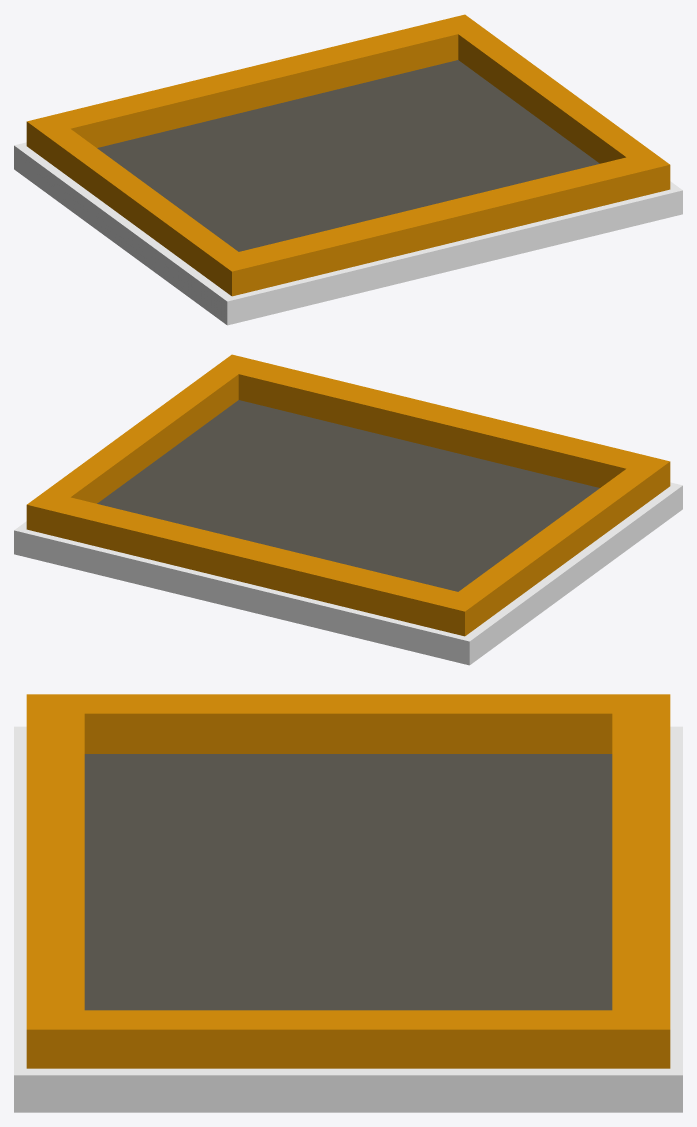
Rendered from CityBuildingB_01_roof.fbx.
3 renders of one model, top to bottom at view 1: azimuth 30°, elevation 25°; view 2: azimuth 150°, elevation 25°; view 3: azimuth 270°, elevation 25°, orthographic. The views are drawn at different scales.
Parts seen in each view (by area): view 1: CityBuildingB_01_roof; view 2: CityBuildingB_01_roof; view 3: CityBuildingB_01_roof.
Part boxes in pixels (<box>): CityBuildingB_01_roof: <box>14,14,682,325</box>; CityBuildingB_01_roof: <box>14,354,682,665</box>; CityBuildingB_01_roof: <box>14,694,682,1112</box>.
Bounding box in the file's own units: 0.6971 × 0.0713 × 0.5653.
